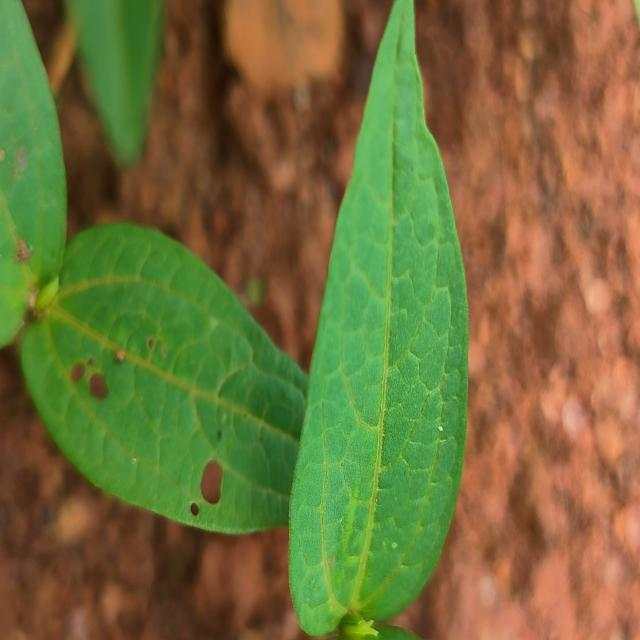Black gram_healthy: (290, 0, 468, 640), (24, 220, 310, 536)
